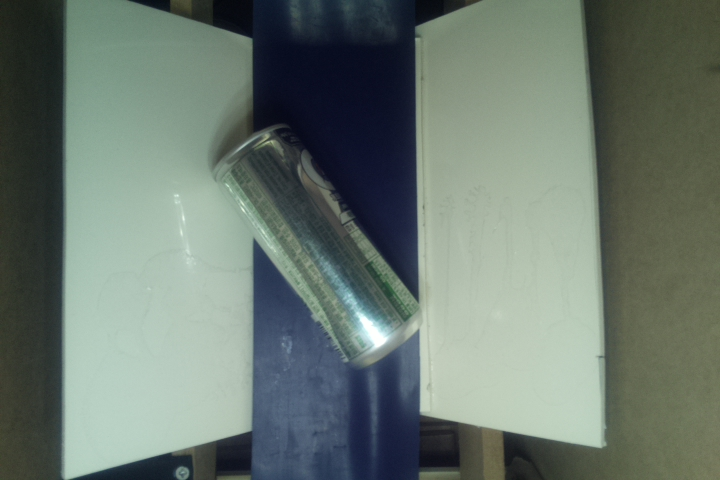can: (210, 121, 423, 369)
